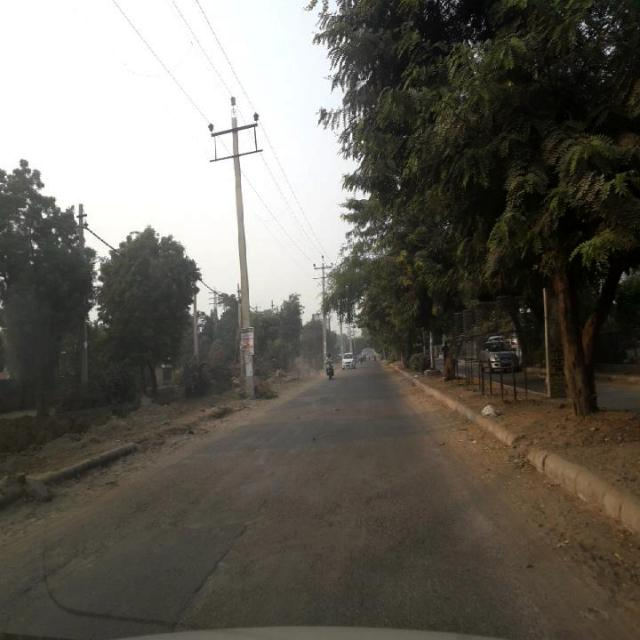pothole: (9, 550, 88, 612)
